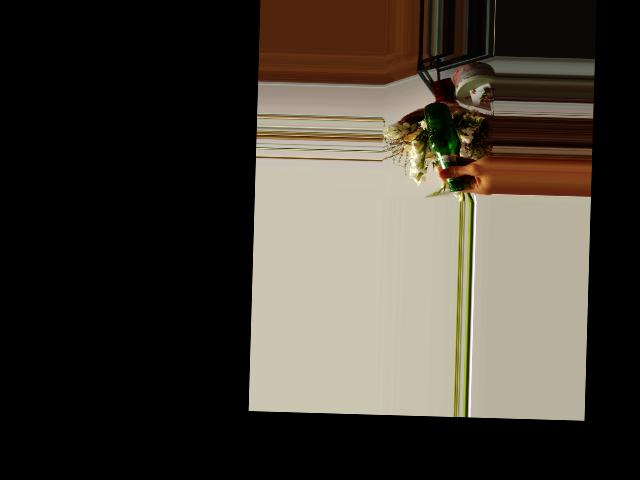beer: (421, 101, 462, 191)
